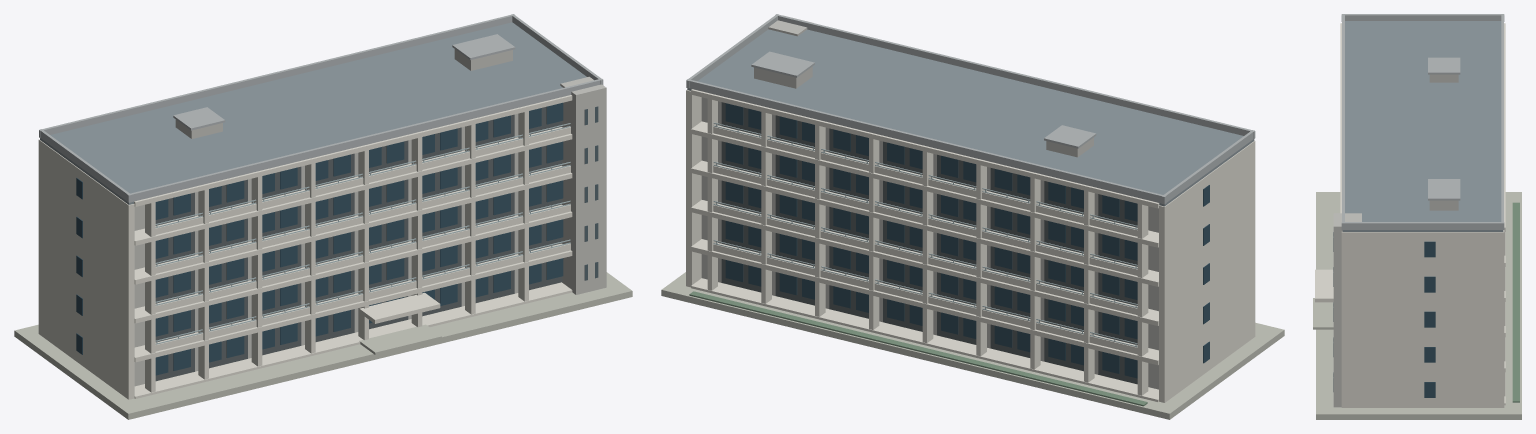
3 renders of one model, left to right at view 1: azimuth 30°, elevation 25°; view 2: azimuth 150°, elevation 25°; view 3: azimuth 270°, elevation 25°, orthographic. The views are drawn at different scales.
Size of the model in its own units: 41.4 by 17.1 by 16.43.
